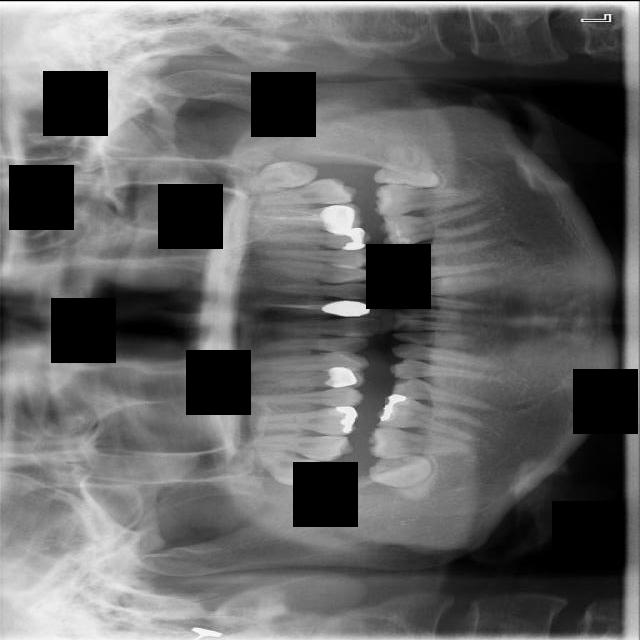3M ESPE Implant: (241, 442, 333, 494)
52: (374, 391, 427, 433), (376, 208, 429, 250), (309, 403, 362, 438), (317, 199, 365, 237), (323, 225, 372, 252), (320, 366, 365, 389), (321, 299, 380, 316), (392, 241, 429, 266)
73: (251, 200, 325, 229), (252, 296, 335, 316), (566, 28, 584, 40)
BioHorizons Implant: (251, 177, 356, 205)
BioLife Implant: (244, 157, 320, 192)
Biomet 3i Implant: (372, 134, 450, 198)
Blue Sky Bio Implant: (371, 167, 485, 219)
Caries: (239, 434, 355, 461)
Implant: (367, 423, 466, 459)
Keystone Dental Implant: (365, 437, 444, 506)
